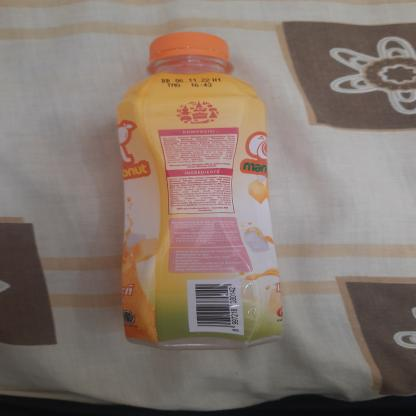plastic: (107, 28, 292, 354)
